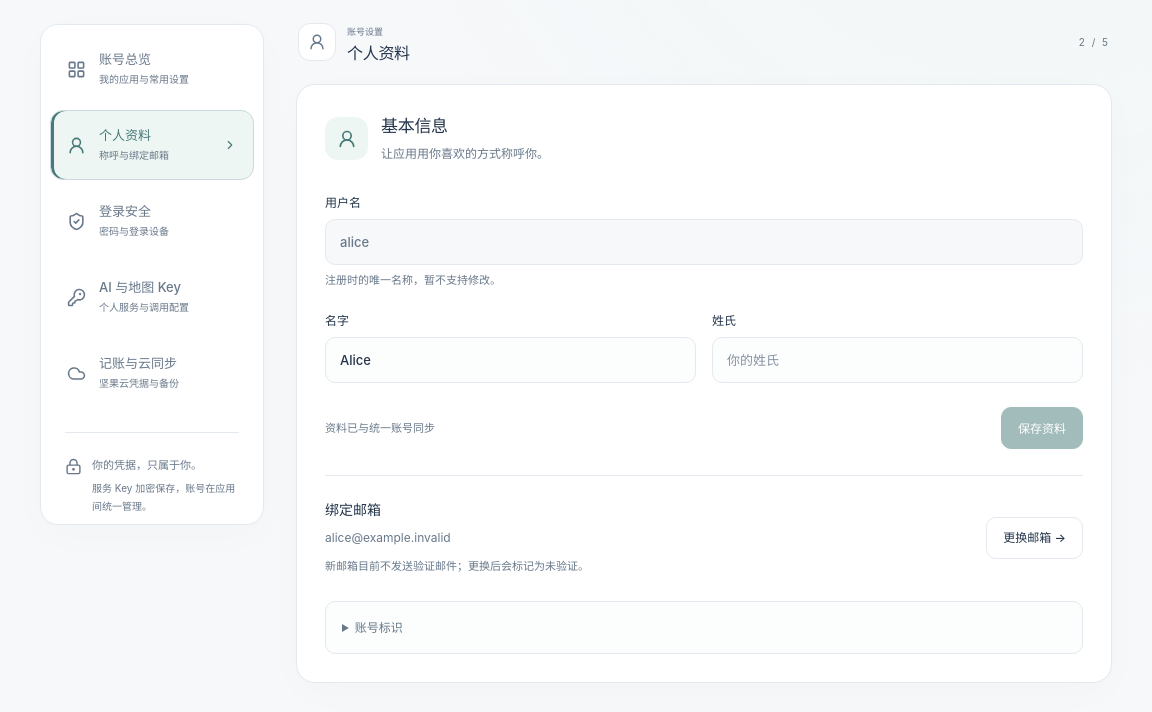
Test: unified account management › can discard unsaved profile edits without changing the server record
This screenshot has width=1152, height=712.
(page scrolled)
Replace the text in the field labelled "名字" with "Alicia" at (510, 360), box left=325, top=337, right=696, bottom=383
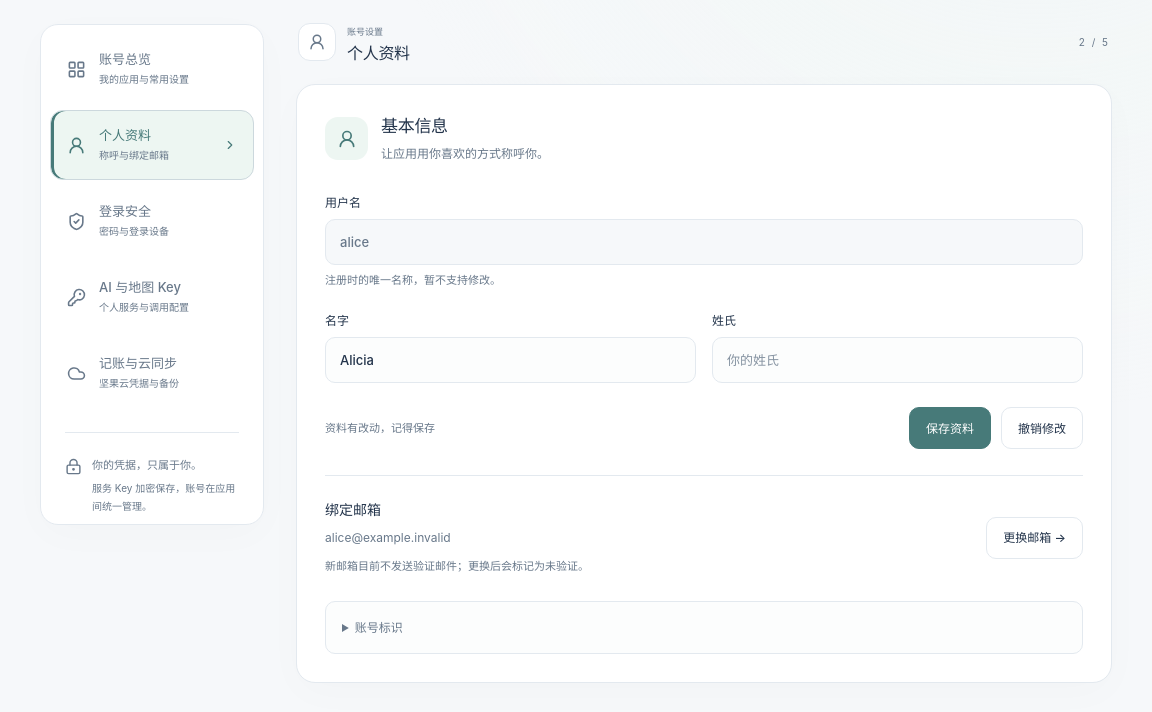
Click the button "撤销修改" at (1042, 428), box left=1001, top=407, right=1083, bottom=449
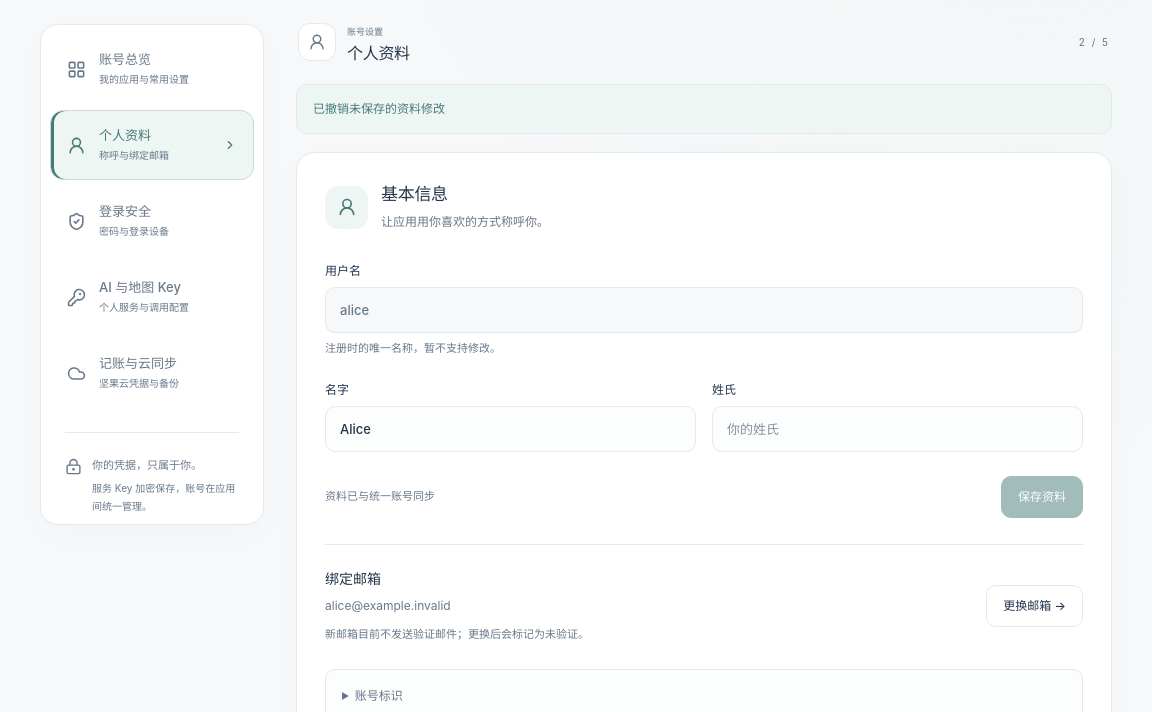
Expected: the field labelled "名字" holds "Alice", left=325, top=406, right=696, bottom=452
Expected: the text "已撤销未保存的资料修改" is shown, left=296, top=84, right=1112, bottom=134
Expected: the button "保存资料" is disabled, left=1001, top=476, right=1083, bottom=518
